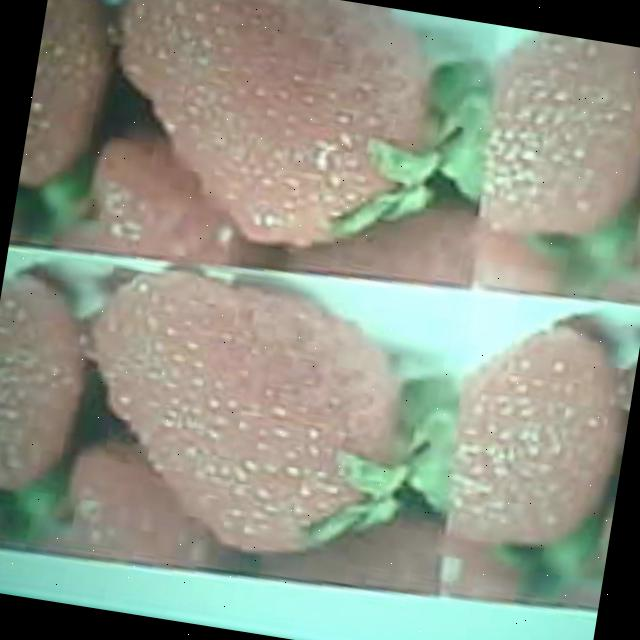strawberry: (68, 258, 416, 569), (94, 0, 436, 262), (437, 312, 631, 558), (471, 25, 640, 256)
